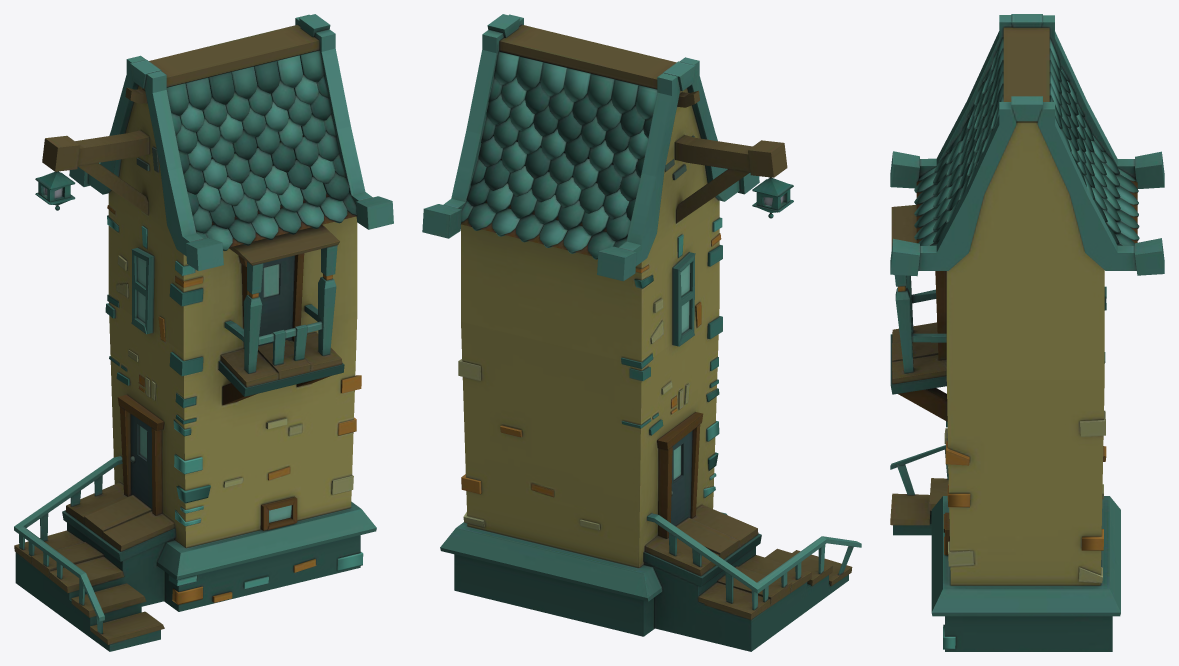
The model's file is cartoon_house.glb.
3 renders of one model, left to right at view 1: azimuth 30°, elevation 25°; view 2: azimuth 150°, elevation 25°; view 3: azimuth 270°, elevation 25°, orthographic. The views are drawn at different scales.
Parts seen in each view (by area): view 1: Object_3, Object_4, Object_2; view 2: Object_2, Object_3, Object_4; view 3: Object_2, Object_4, Object_3.
Boxes of the visible parts, bbox=[...] form: Object_3: bbox=[14, 50, 360, 651]; Object_4: bbox=[19, 14, 393, 633]; Object_2: bbox=[108, 85, 357, 547]; Object_2: bbox=[461, 88, 719, 567]; Object_3: bbox=[454, 51, 861, 651]; Object_4: bbox=[422, 14, 853, 610]; Object_2: bbox=[946, 122, 1104, 585]; Object_4: bbox=[890, 14, 1164, 649]; Object_3: bbox=[890, 37, 1139, 651].
Size of the model in its own units: 3.65 by 6.1 by 2.77.
Materials: 2 (2 with a texture image).
